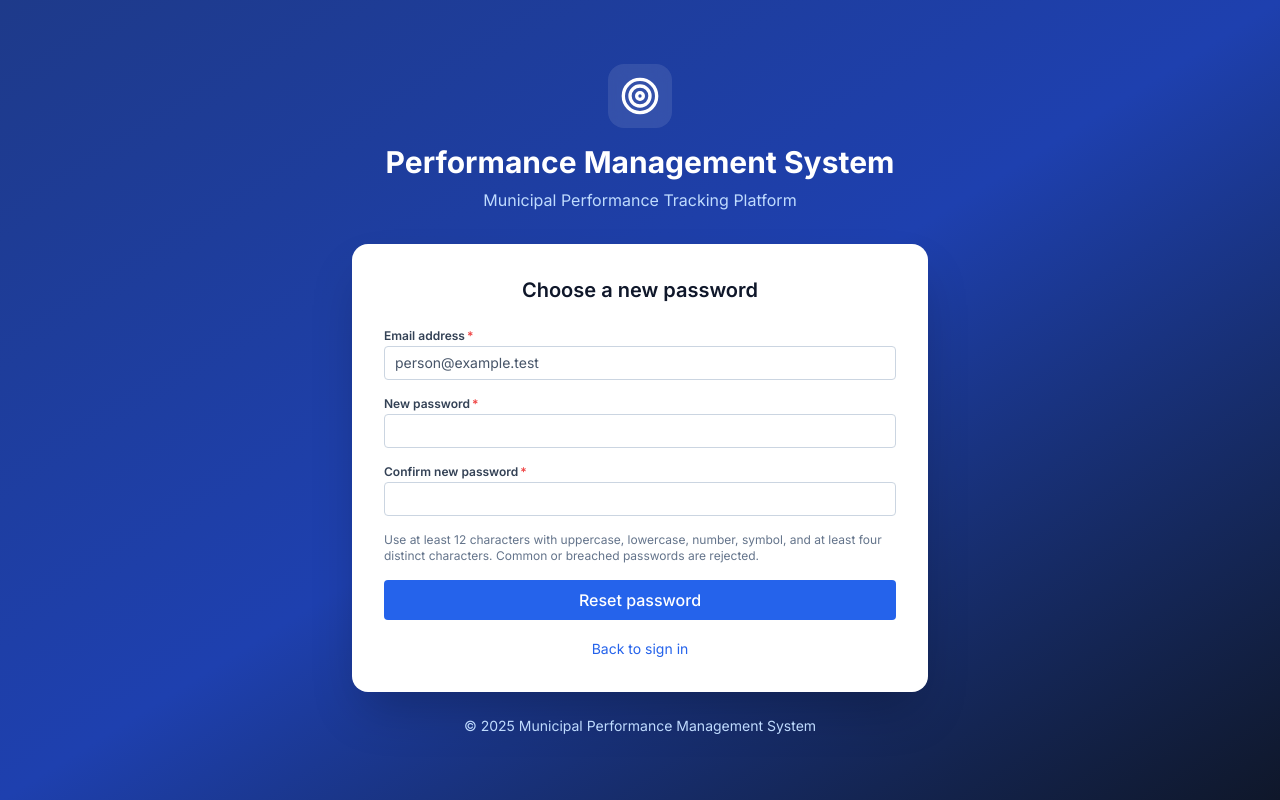
Test: MFA login challenge › submits a reset-link token and returns to sign in after success
In the password field labelled "New password*": (640, 431) [384,414,896,448], type "A-Strong-New-Password9!"
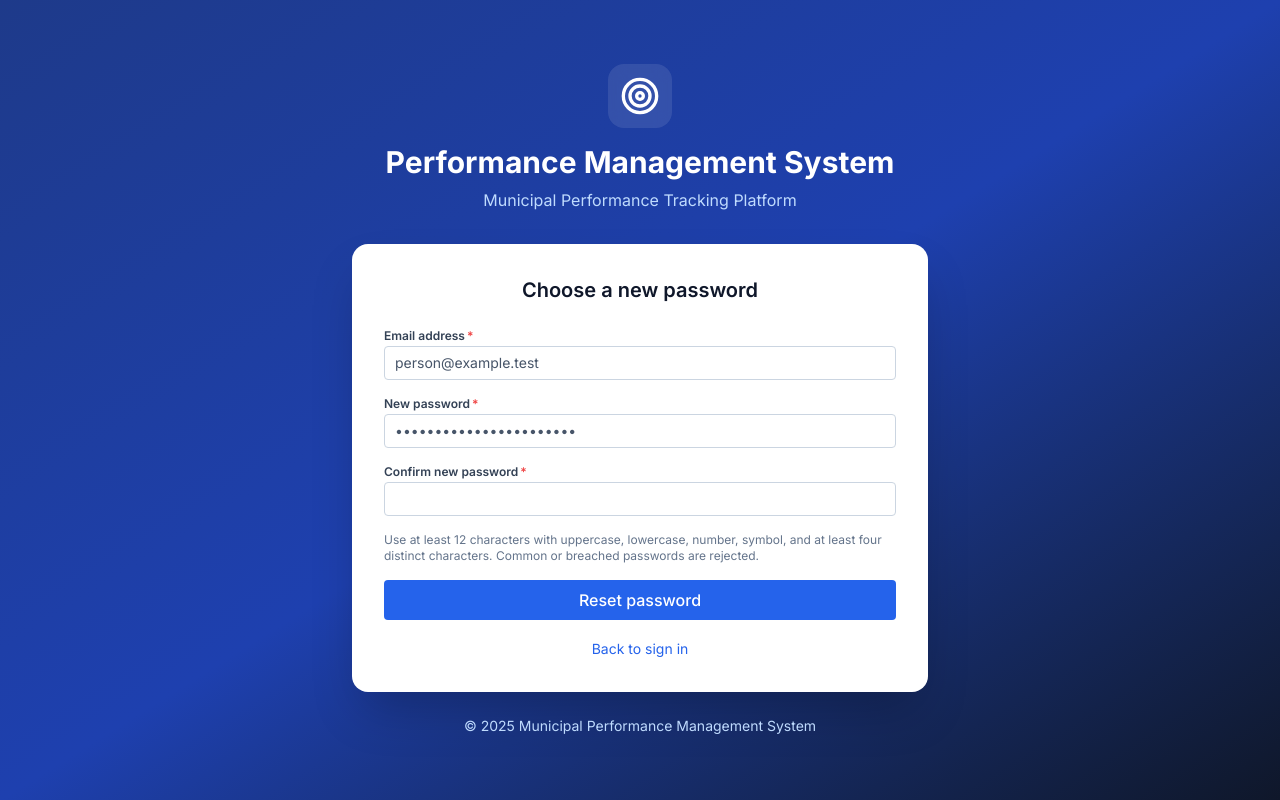
In the password field labelled "Confirm new password*": (640, 499) [384,482,896,516], type "A-Strong-New-Password9!"
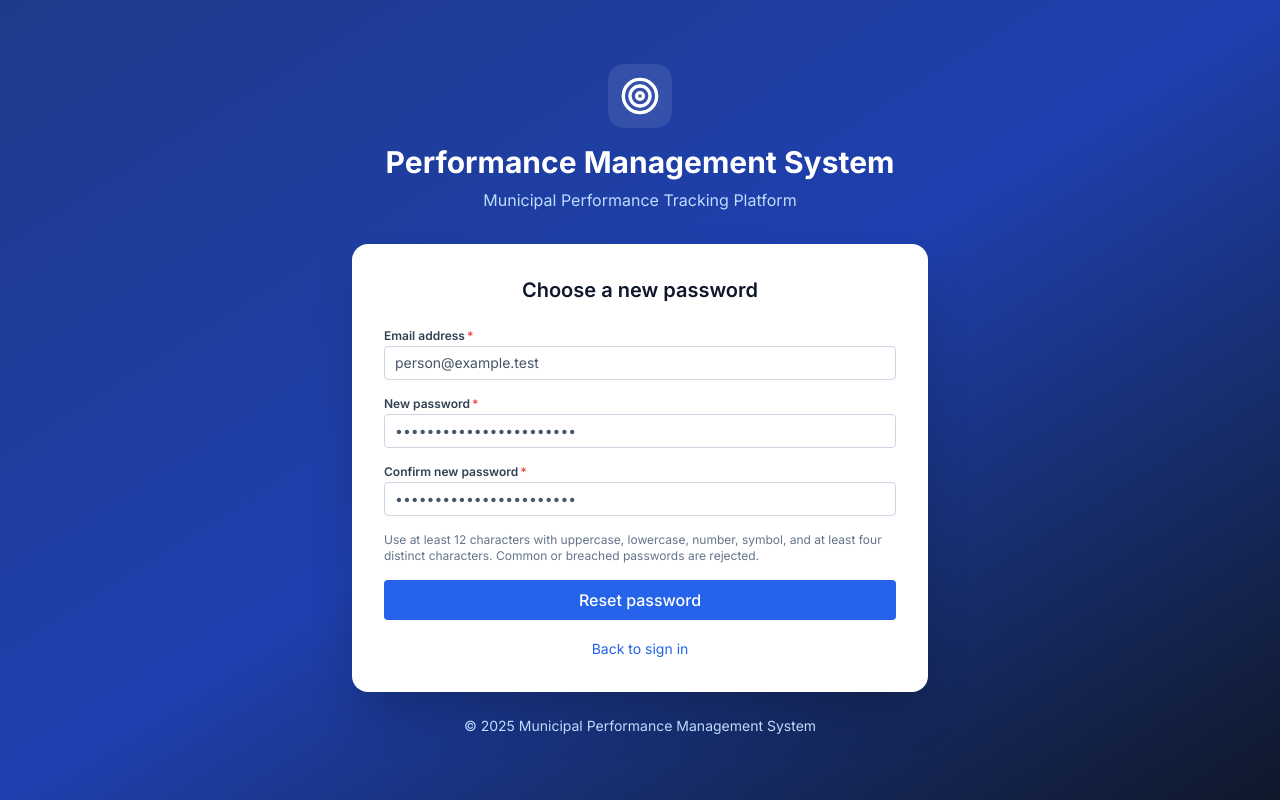
Click the button "Reset password": (640, 600) [384,580,896,620]
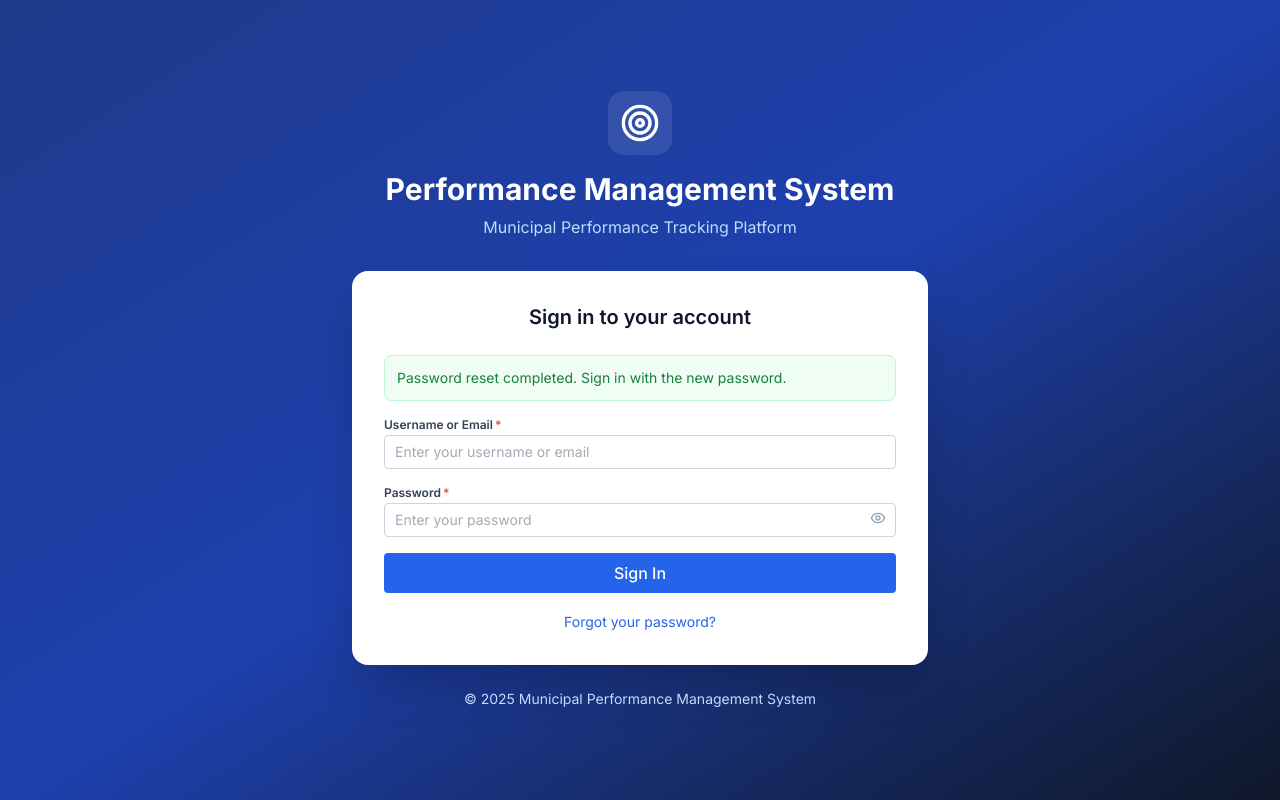
Expected: the text "Password reset completed. Sign in with the new password." is shown, [397,369,786,386]
